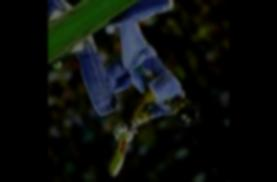batsman: (90, 0, 216, 180)
